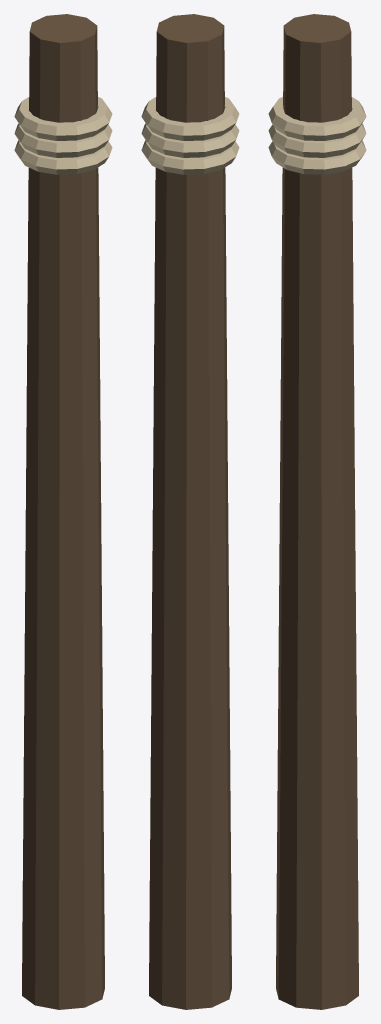
The model's file is piling.glb.
3 views of the same model, side by side, from view 1: azimuth 30°, elevation 25°; view 2: azimuth 210°, elevation 25°; view 3: azimuth 330°, elevation 25° (orthographic).
Parts seen in each view (by area): view 1: wood0, rope3, rope1, rope2; view 2: wood0, rope3, rope1, rope2; view 3: wood0, rope3, rope1, rope2.
Boxes of the visible parts, left/top/right/bottom form: wood0: left=22, top=14, right=104, bottom=1009; rope3: left=14, top=97, right=112, bottom=140; rope1: left=14, top=140, right=112, bottom=174; rope2: left=14, top=123, right=112, bottom=157; wood0: left=149, top=14, right=231, bottom=1009; rope3: left=141, top=97, right=239, bottom=140; rope1: left=141, top=140, right=239, bottom=174; rope2: left=141, top=123, right=239, bottom=157; wood0: left=276, top=14, right=358, bottom=1009; rope3: left=268, top=97, right=366, bottom=140; rope1: left=268, top=140, right=366, bottom=174; rope2: left=268, top=123, right=366, bottom=157.
Size of the model in its own units: 0.37 by 4 by 0.3607.
